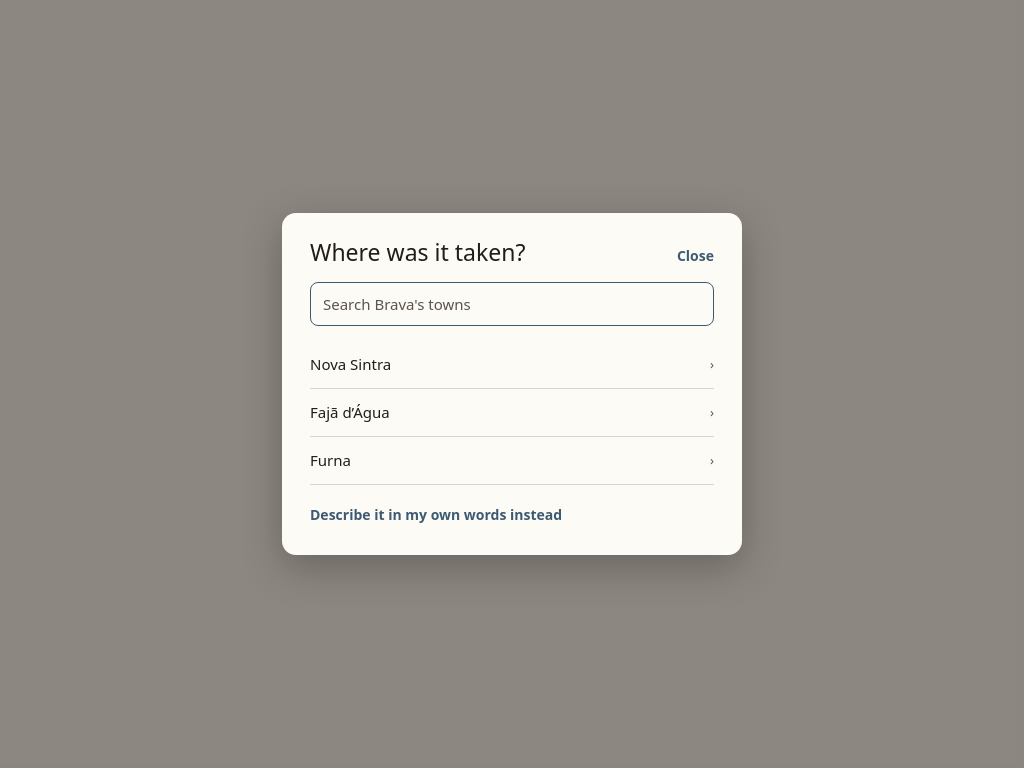
Test: TownPicker › filters ignoring accents: 'faja' finds 'Fajã d'Água'
In the field with placeholder "Search Brava's towns": (512, 304) [310,282,714,326], type "faja"
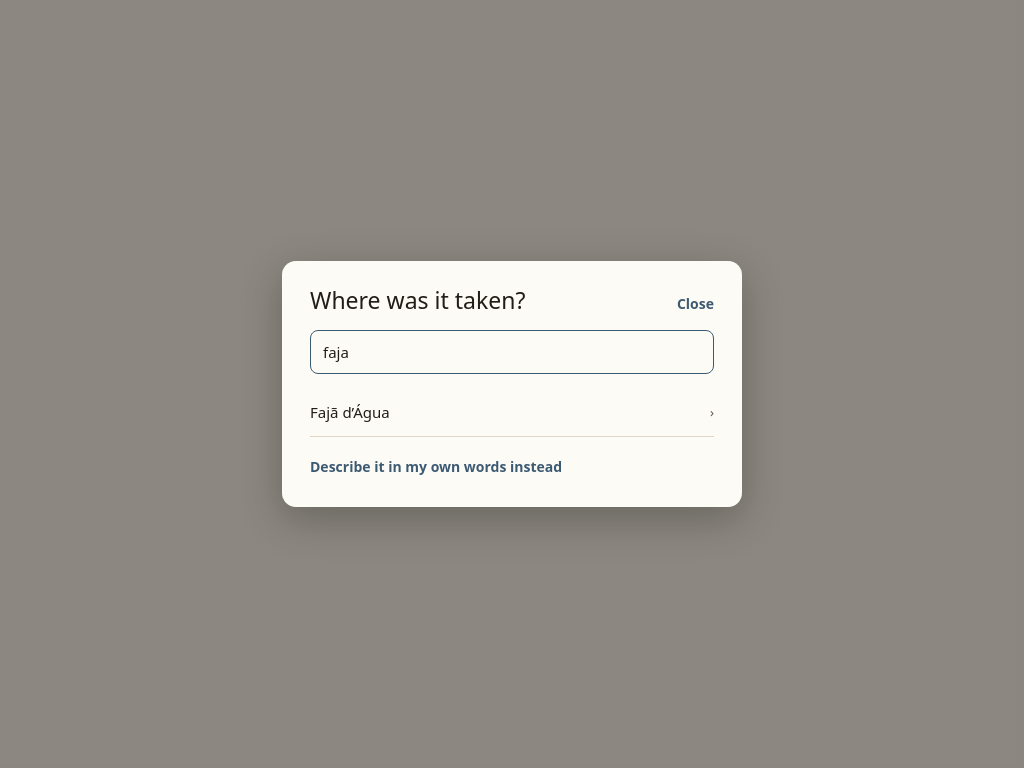
Check: the text "Fajã d’Água" is shown, box [310,401,390,424]
Check: the button "Nova Sintra" is gone
Check: the button "Furna" is gone
